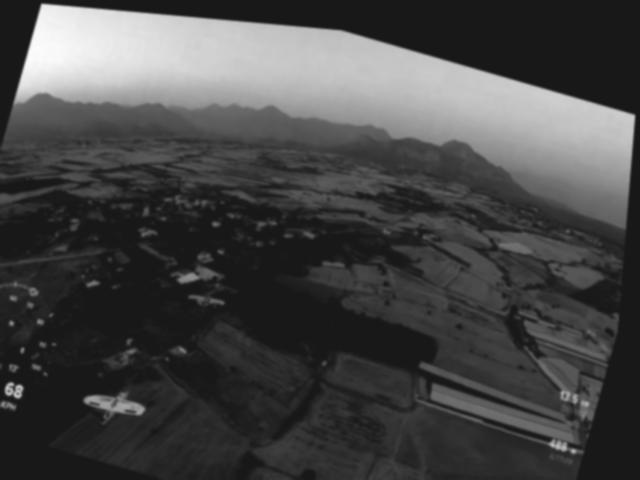hedef: (82, 372, 159, 437), (186, 278, 234, 319)
